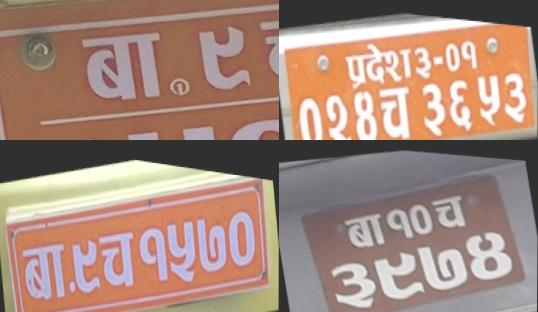0: (225, 194, 259, 268), (294, 90, 326, 140), (407, 192, 437, 241), (442, 35, 463, 72)
1: (135, 213, 171, 287), (384, 199, 415, 246), (459, 33, 482, 70)
2: (219, 95, 279, 140), (320, 85, 355, 140)
3: (324, 250, 382, 312), (416, 74, 450, 139), (499, 60, 532, 125), (411, 40, 435, 78)
4: (462, 221, 518, 285), (350, 83, 382, 140)
5: (120, 108, 233, 140), (164, 206, 199, 286), (472, 64, 508, 129)
6: (445, 70, 480, 137)
7: (418, 235, 472, 296), (194, 199, 230, 275)
9: (191, 9, 258, 95), (370, 243, 428, 307), (69, 226, 103, 299)
ba: (70, 17, 174, 113), (19, 230, 71, 312), (342, 206, 390, 256)
cha: (96, 216, 140, 297), (376, 77, 417, 140), (428, 184, 473, 235), (253, 0, 279, 86)
